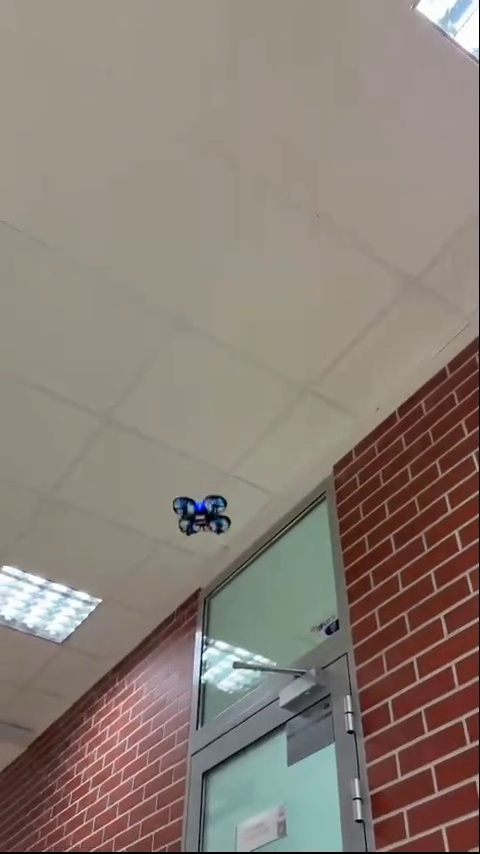drone: (174, 496, 233, 539)
